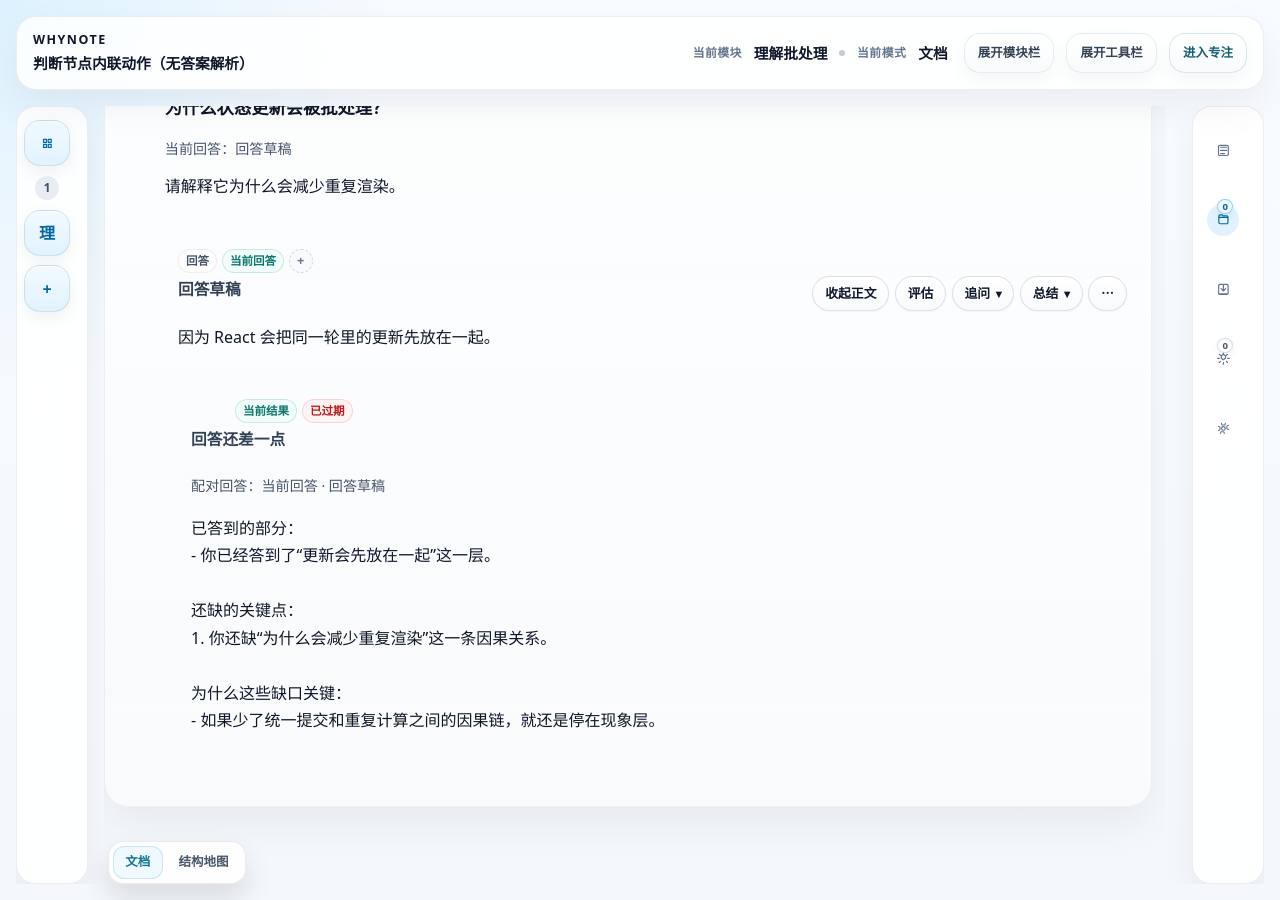
Test case: keeps judgment-specific next-step actions in ⋯ and disables answer explanation when the matching summary is missing
(page scrolled)
Click the element with test id "editor-node-judgment-inline-primary": (169, 399) x1=129 y1=384 x2=1127 y2=753
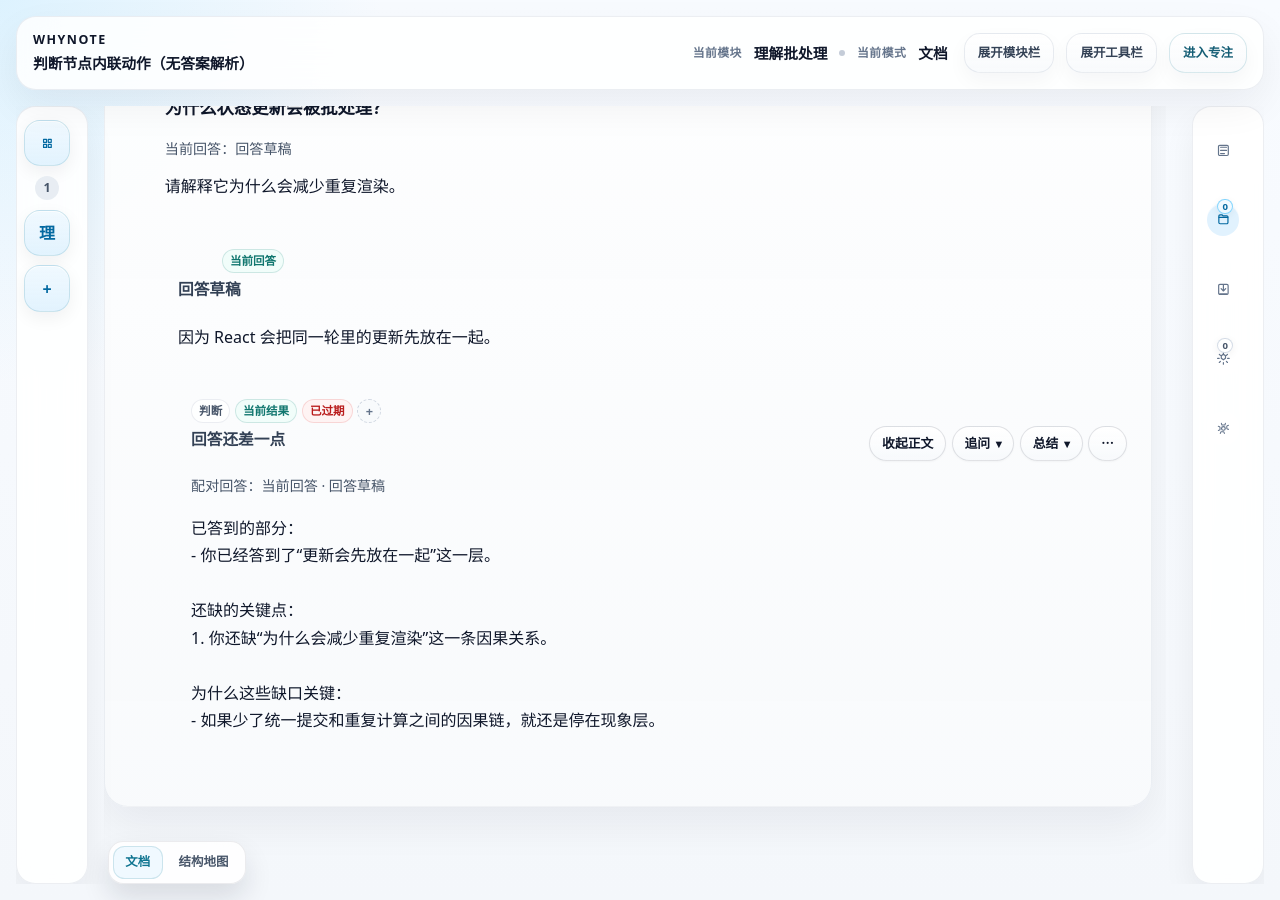
Click the button "⋯": (1107, 444) x1=1088 y1=426 x2=1127 y2=461
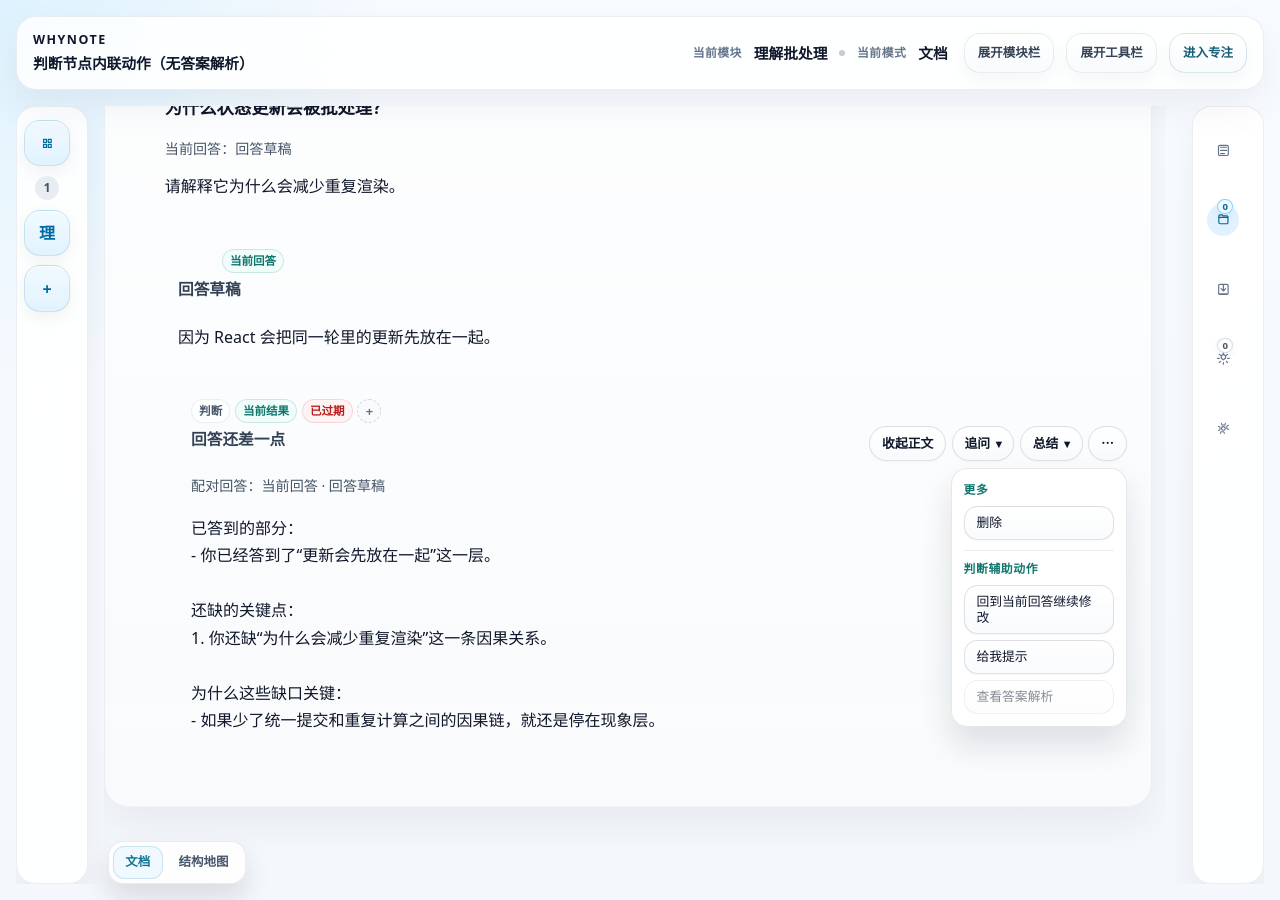
Expected: the button "回到当前回答继续修改" is enabled, x1=964 y1=585 x2=1114 y2=634
Expected: the button "给我提示" is enabled, x1=964 y1=640 x2=1114 y2=674
Expected: the button "查看答案解析" is disabled, x1=964 y1=680 x2=1114 y2=714
